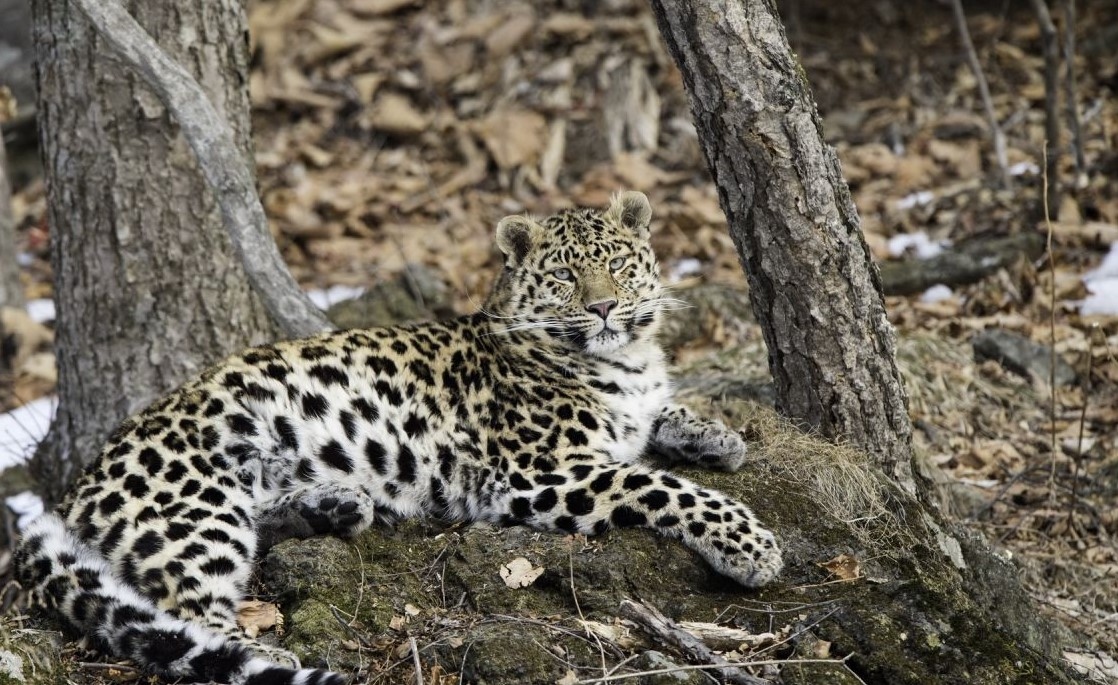amur_leopard: (47, 193, 793, 665)
